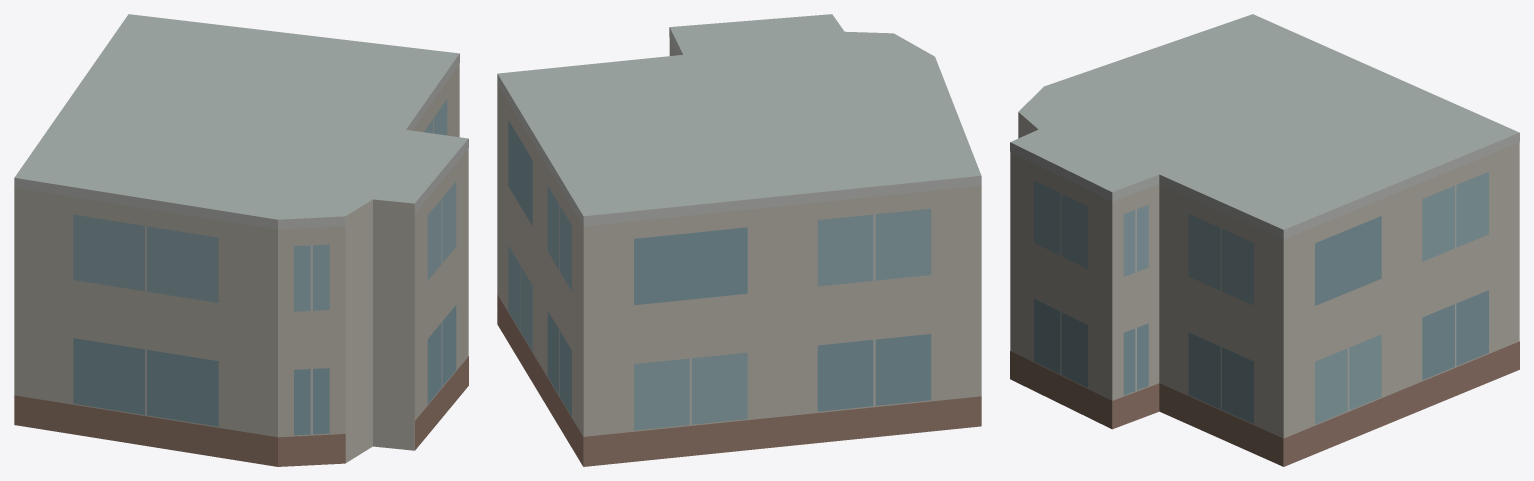
The model's file is survey-upis-32780598.glb.
3 views of the same model, side by side, from view 1: azimuth 30°, elevation 25°; view 2: azimuth 150°, elevation 25°; view 3: azimuth 270°, elevation 25° (orthographic). The views are drawn at different scales.
Visible parts, largest first — view 1: survey-upis-32780598.tmp; view 2: survey-upis-32780598.tmp; view 3: survey-upis-32780598.tmp.
Boxes of the visible parts, x1,y1,x2,y2 form: survey-upis-32780598.tmp: (14,14,468,466); survey-upis-32780598.tmp: (497,14,981,466); survey-upis-32780598.tmp: (1010,14,1519,466).
Size of the model in its own units: 11.93 by 6.1 by 11.9.
